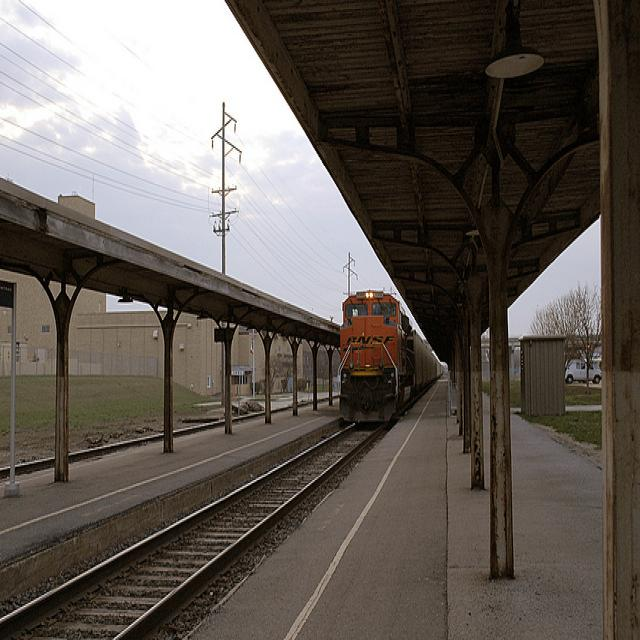Vehicle: (564, 360, 602, 385)
